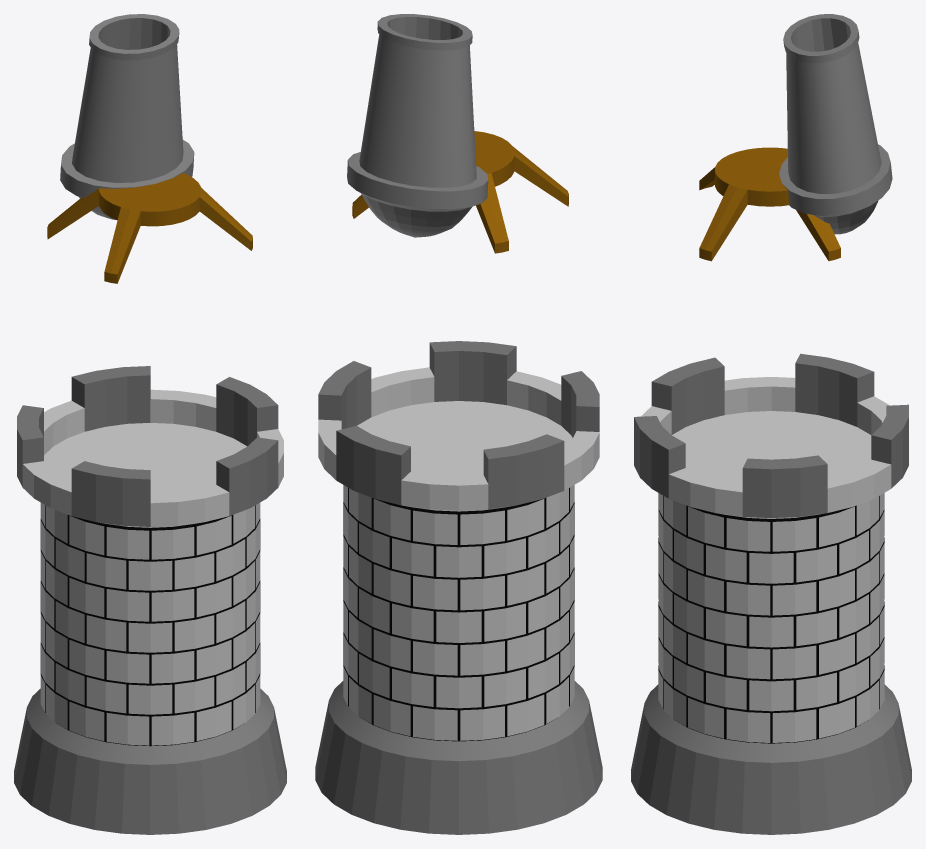
Rendered from tower3.fbx.
3 renders of one model, left to right at view 1: azimuth 30°, elevation 25°; view 2: azimuth 150°, elevation 25°; view 3: azimuth 270°, elevation 25°, orthographic. The views are drawn at different scales.
Visible parts, largest first — view 1: Cylinder001, Cylinder002, Cylinder003; view 2: Cylinder001, Cylinder002, Cylinder003; view 3: Cylinder001, Cylinder002, Cylinder003.
Part boxes in pixels (bbox=[...]): Cylinder001: bbox=[14, 366, 286, 834]; Cylinder002: bbox=[60, 14, 194, 219]; Cylinder003: bbox=[47, 173, 252, 283]; Cylinder001: bbox=[315, 341, 602, 834]; Cylinder002: bbox=[347, 14, 488, 237]; Cylinder003: bbox=[352, 131, 568, 253]; Cylinder001: bbox=[631, 353, 911, 834]; Cylinder002: bbox=[779, 14, 892, 234]; Cylinder003: bbox=[699, 147, 840, 261].
Bounding box in the file's own units: 97.79 × 286 × 97.25.
